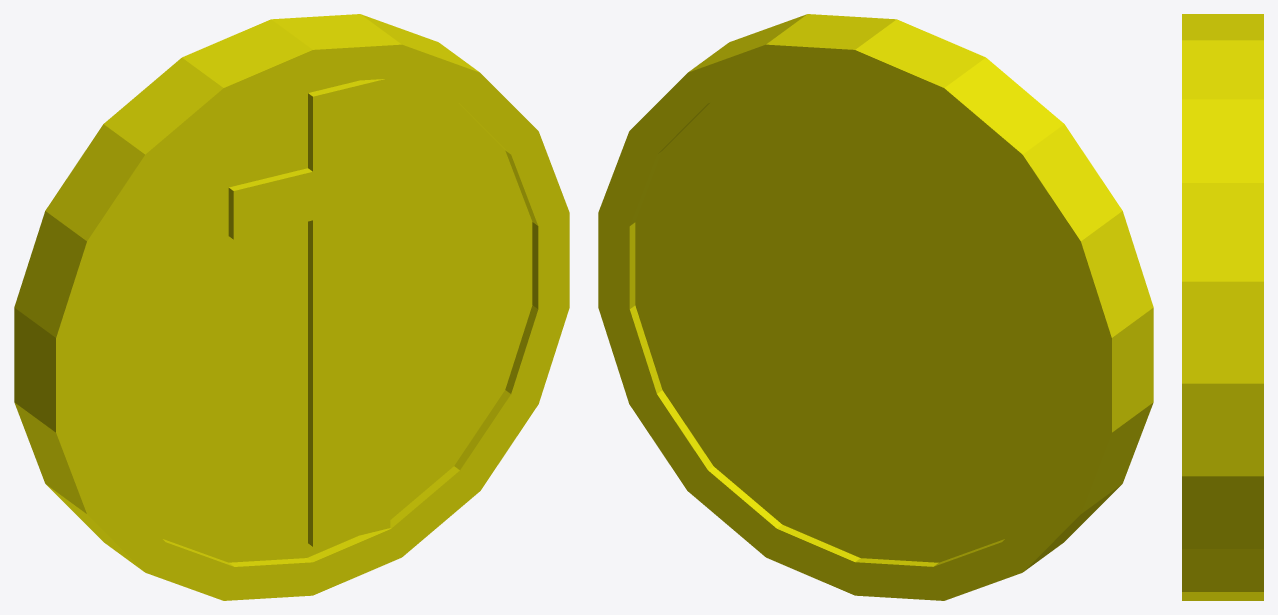
The model's file is coin.glb.
3 renders of one model, left to right at view 1: azimuth 30°, elevation 25°; view 2: azimuth 150°, elevation 25°; view 3: azimuth 270°, elevation 25°, orthographic. The views are drawn at different scales.
Visible parts, largest first — view 1: Coin; view 2: Coin; view 3: Coin.
Part boxes in pixels (left/top/right/bottom): Coin: left=14, top=14, right=569, bottom=600; Coin: left=598, top=14, right=1153, bottom=600; Coin: left=1182, top=14, right=1263, bottom=600.
Bounding box in the file's own units: 1.97 × 2 × 0.278.
